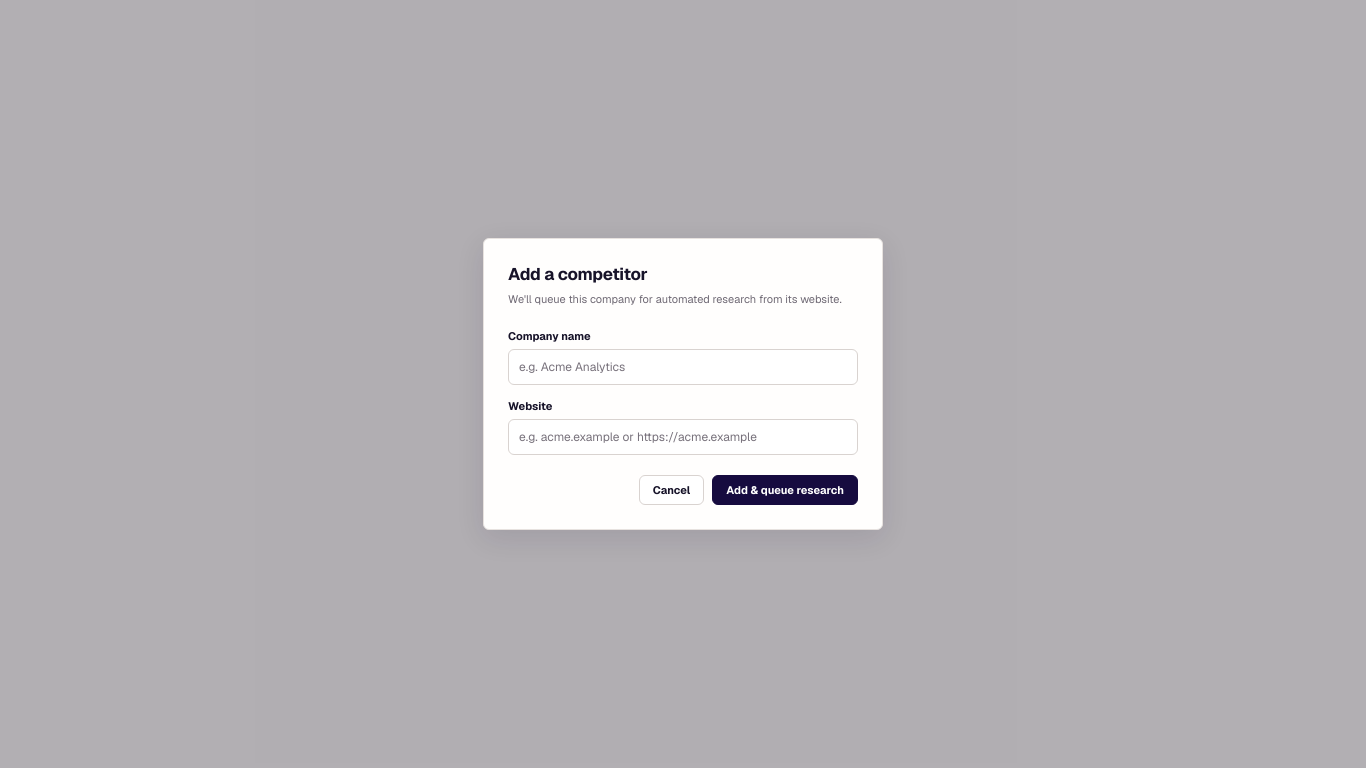
Test: AddCompetitorModal › rejects a website that is not a real http(s) address
In the field labelled "Company name": (683, 367) [508,349,858,385], type "Acme"
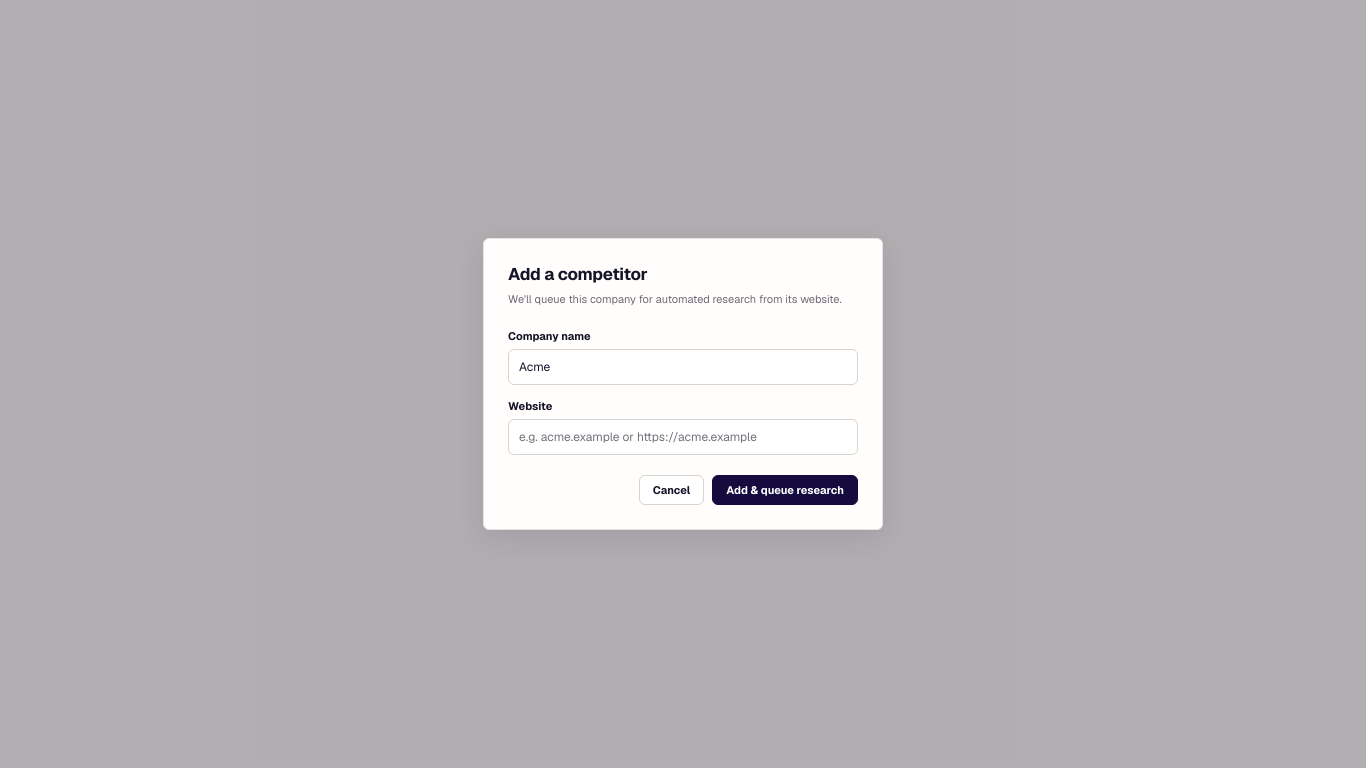
In the field labelled "Website": (683, 437) [508,419,858,455], type "localhost"
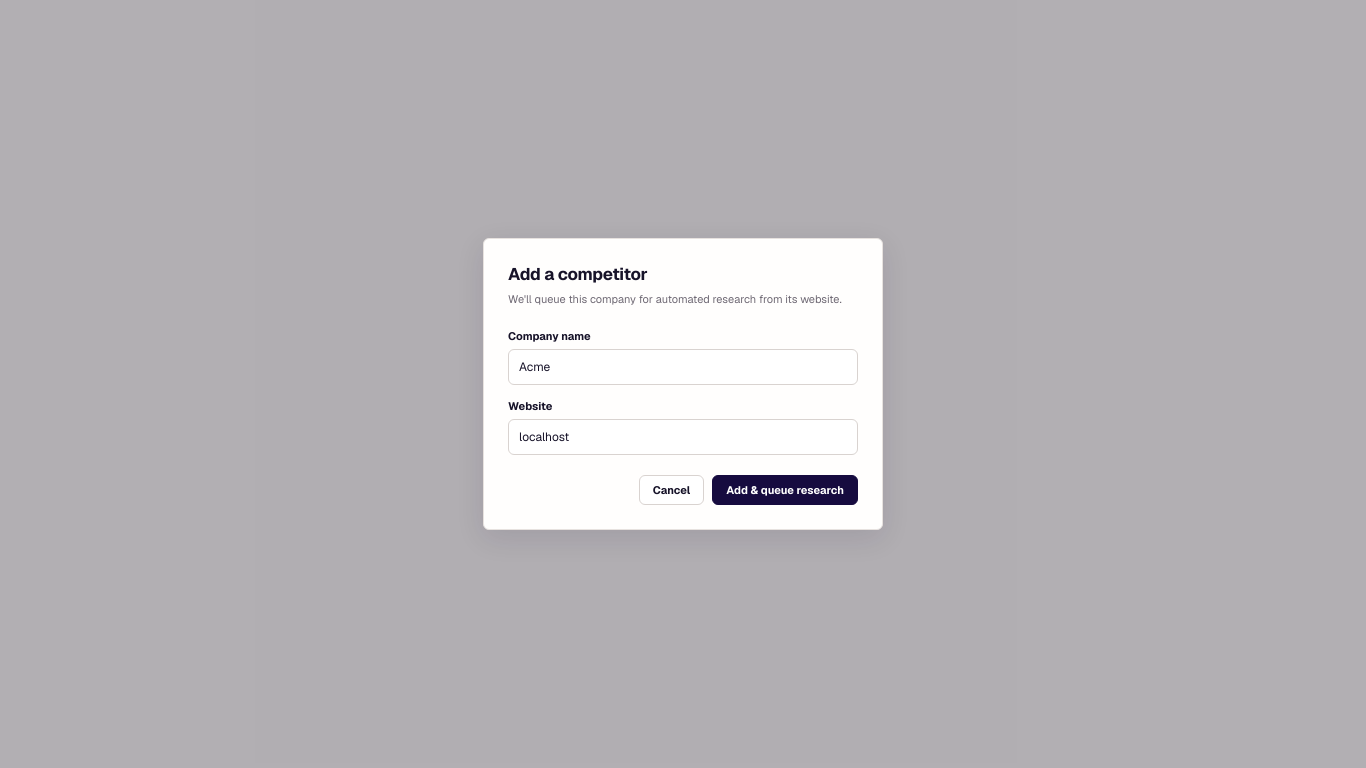
Click the button "Add & queue research": (785, 490) [712,475,858,505]
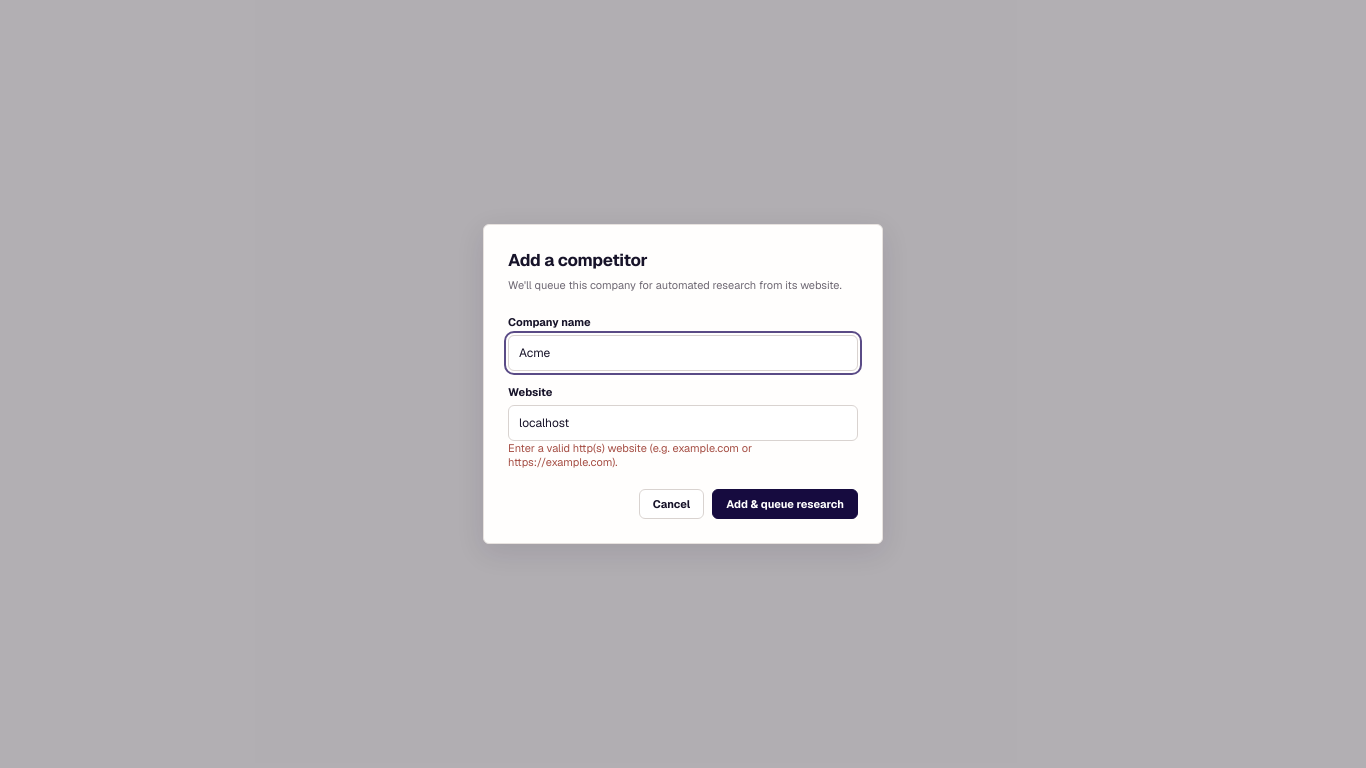
Expected: the text "Enter a valid http(s) website (e.g. example.com or https://example.com)." is shown, [508,441,752,469]
